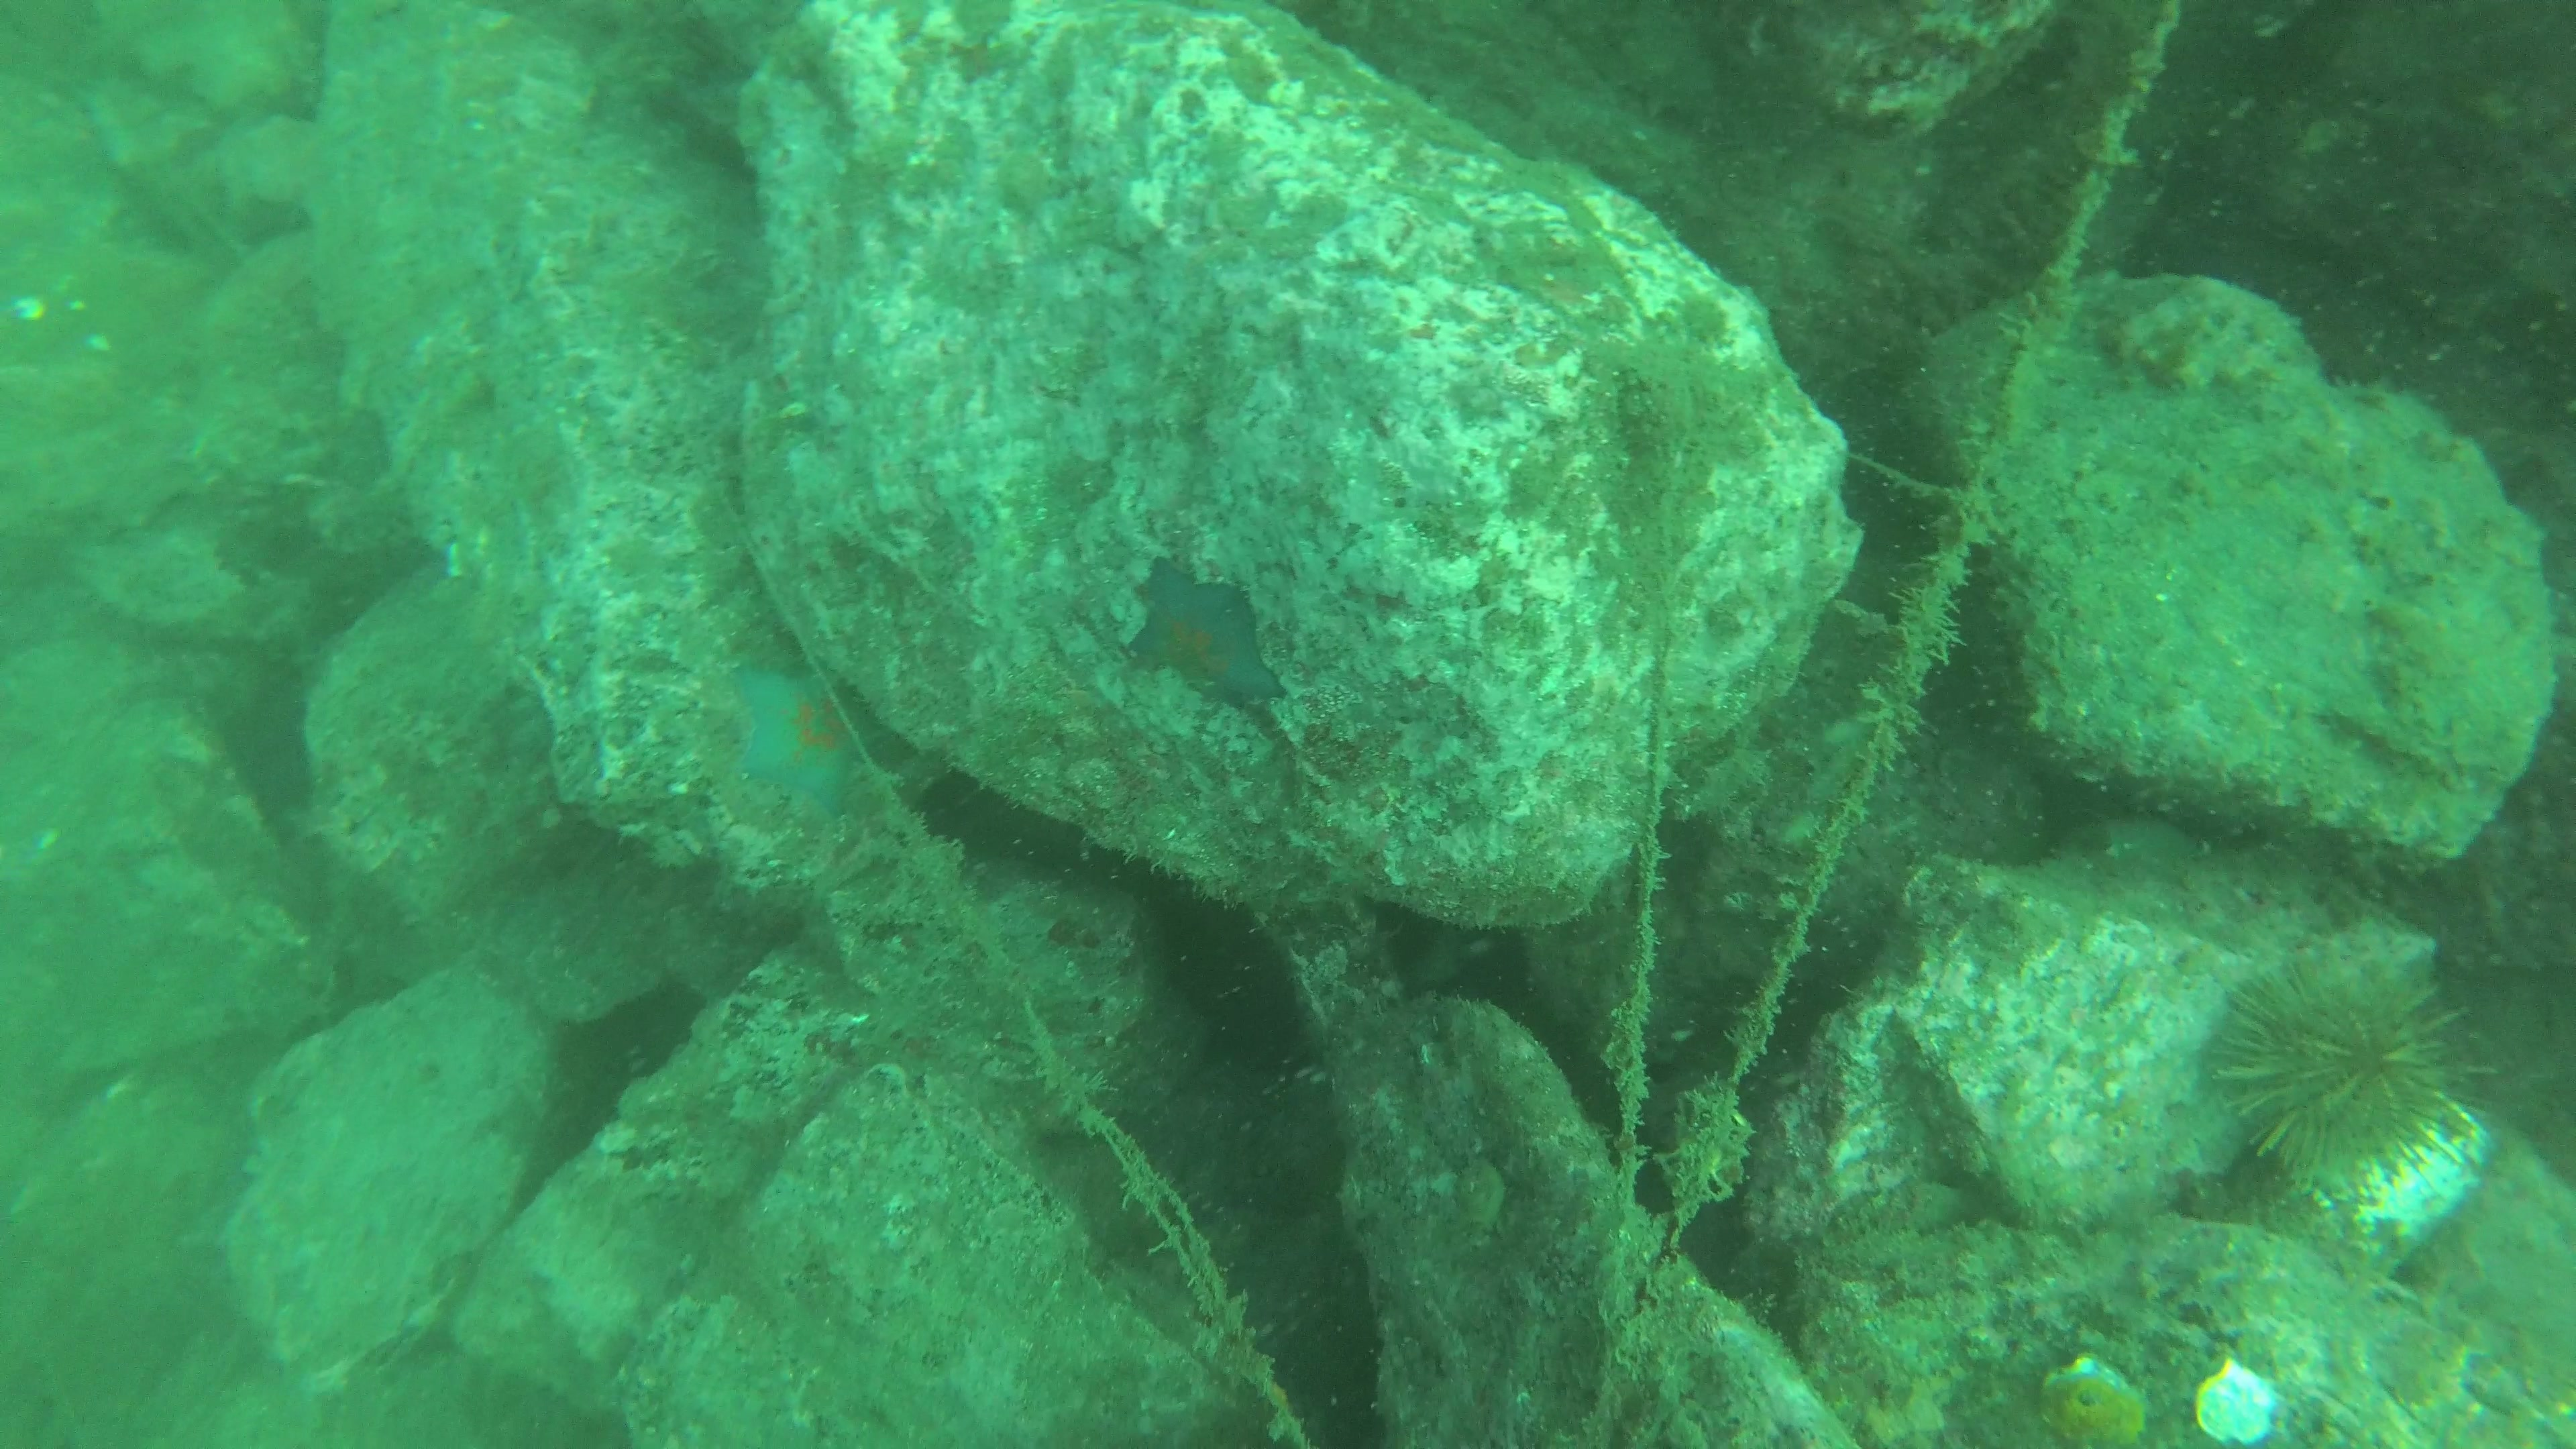echinus: (2206, 948, 2480, 1217)
starfish: (1113, 556, 1299, 717), (711, 644, 869, 821)
